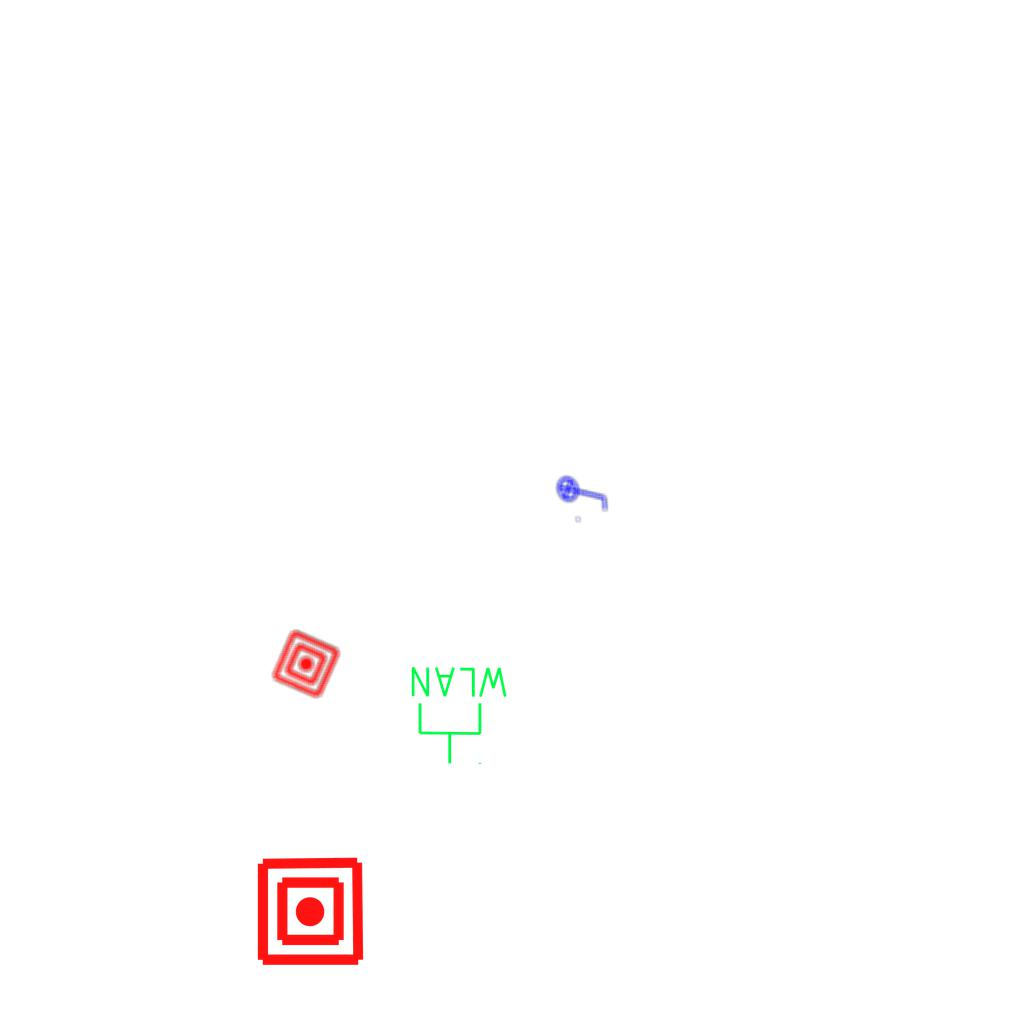Ausschalter_beleuchtet: (551, 458, 615, 528)
NAM-Nichtautomatischer_Melder: (254, 855, 367, 968), (269, 627, 343, 701)
WLAN: (407, 663, 512, 767)
